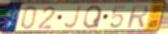0: (19, 5, 38, 31)
2: (37, 5, 58, 30)
5: (109, 5, 128, 30)
J: (63, 5, 82, 30)
Q: (82, 4, 104, 30)
R: (126, 4, 150, 30)
